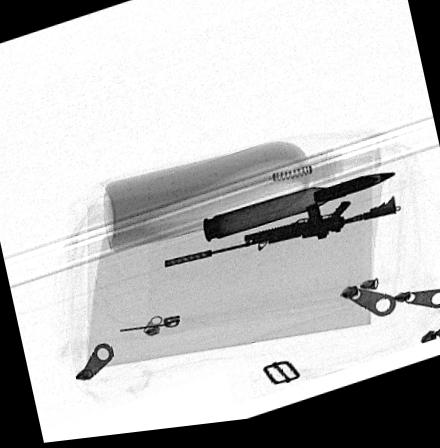Bullet: (200, 179, 395, 245)
Gun: (162, 204, 396, 271)
